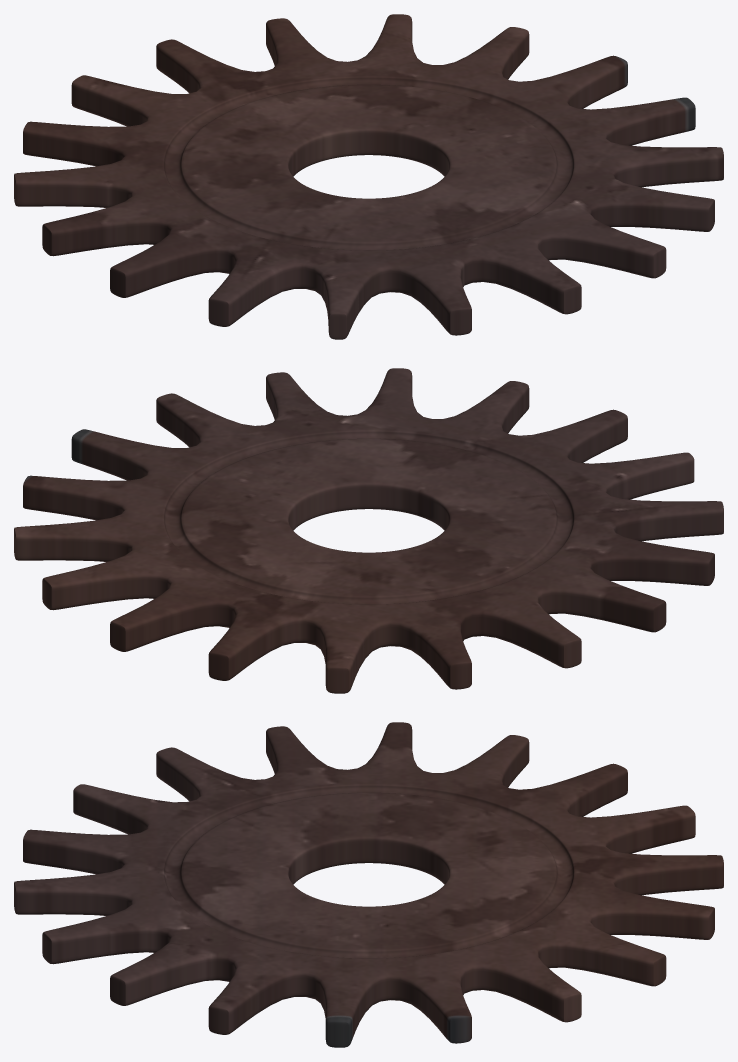
File: gear1fbx.fbx
3 views of the same model, one above another, from view 1: azimuth 30°, elevation 25°; view 2: azimuth 150°, elevation 25°; view 3: azimuth 270°, elevation 25° (orthographic).
Parts seen in each view (by area): view 1: gear_1; view 2: gear_1; view 3: gear_1.
Part boxes in pixels (box(x1,y1,x2,y2)): gear_1: box(14, 14, 723, 339); gear_1: box(14, 368, 723, 693); gear_1: box(14, 722, 723, 1047).
Size of the model in its own units: 12.25 by 0.5199 by 12.25.
